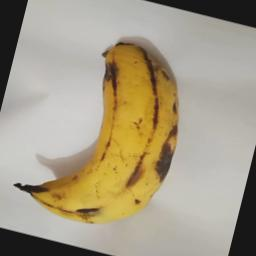Banana Unripe: (8, 20, 200, 238)
